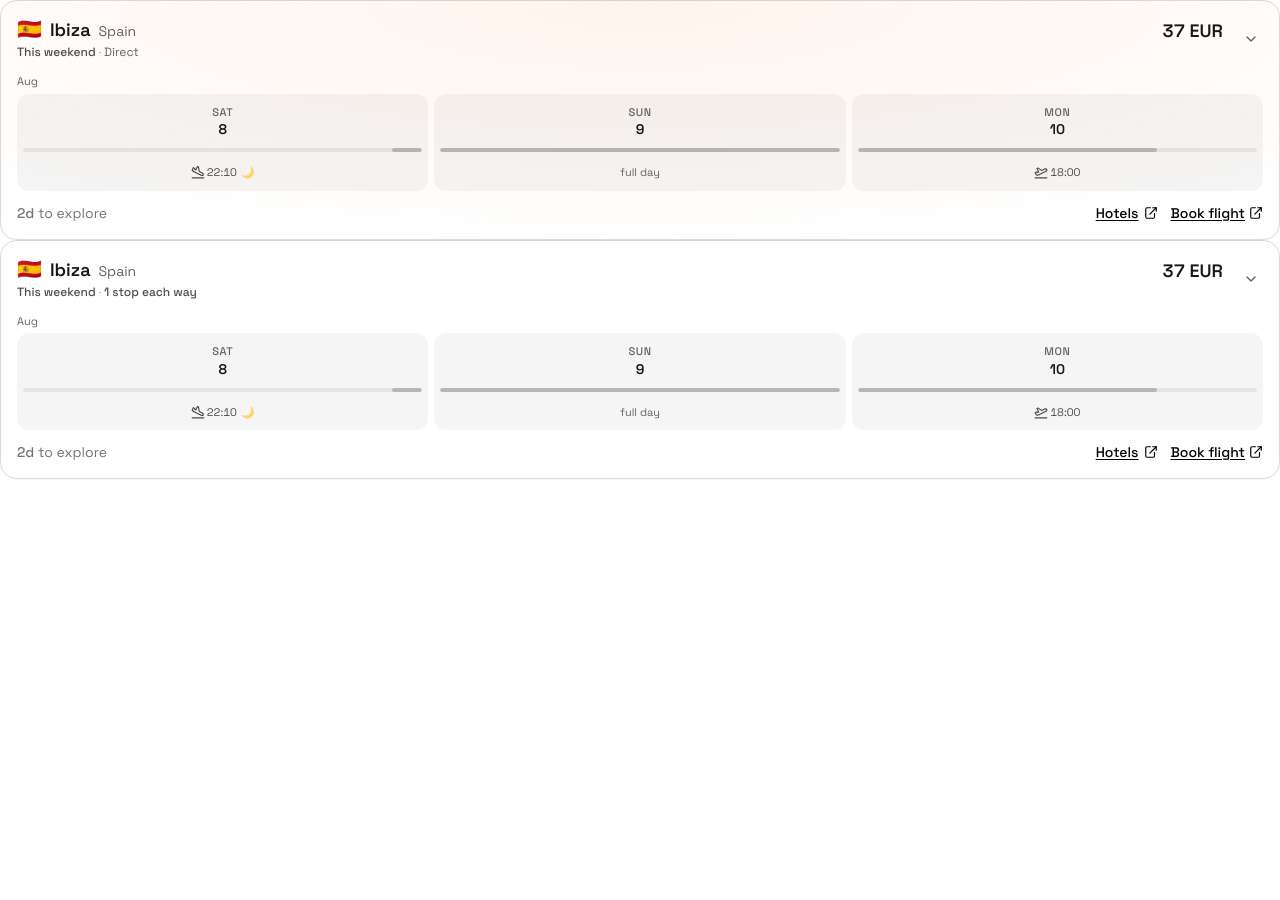
Test case: DealCard › labels a direct trip and shows layover detail on expand
Expected: the text "Direct" is shown, [104,44,139,60]
Expected: the text "1 stop each way" is shown, [104,284,197,300]
Click the 2nd button named "show details for".
click(1251, 278)  # box [1235,256,1267,300]
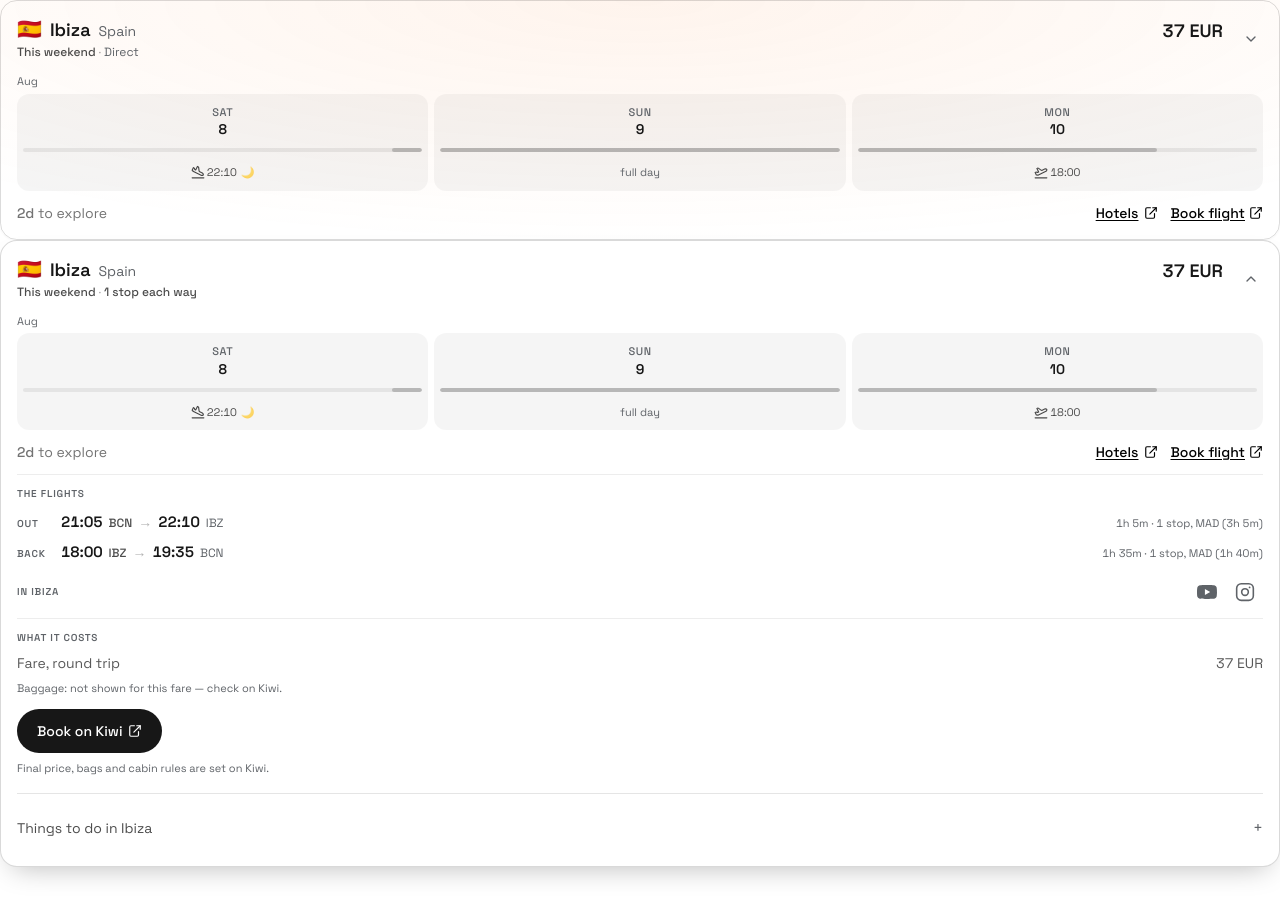
Expected: the text "1h 5m · 1 stop, MAD (3h 5m)" is shown, [1116,516,1263,532]
Expected: the text "1h 35m · 1 stop, MAD (1h 40m)" is shown, [1102,546,1263,561]
